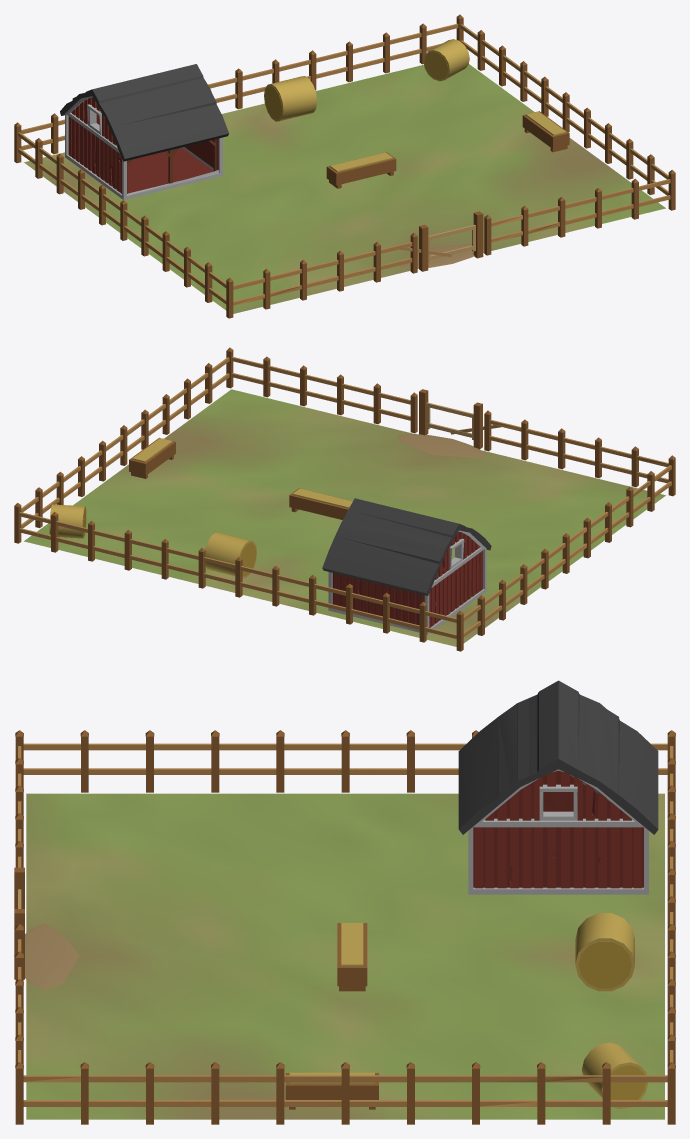
The model's file is cow_barn-g2.glb.
The picture shows the model from 3 angles, top to bottom: view 1: azimuth 30°, elevation 25°; view 2: azimuth 150°, elevation 25°; view 3: azimuth 270°, elevation 25°; orthographic projection. The views are drawn at different scales.
Visible parts, largest first — view 1: home-cow_barn-g2, home-cow_barn-g2-far; view 2: home-cow_barn-g2, home-cow_barn-g2-far; view 3: home-cow_barn-g2, home-cow_barn-g2-far.
Part boxes in pixels (bbox=[...]): home-cow_barn-g2: bbox=[14, 14, 675, 313]; home-cow_barn-g2-far: bbox=[14, 18, 675, 318]; home-cow_barn-g2: bbox=[14, 347, 675, 651]; home-cow_barn-g2-far: bbox=[55, 351, 675, 651]; home-cow_barn-g2: bbox=[14, 680, 675, 1124]; home-cow_barn-g2-far: bbox=[15, 694, 675, 1124].
Size of the model in its own units: 11.93 by 2.3 by 9.95.
